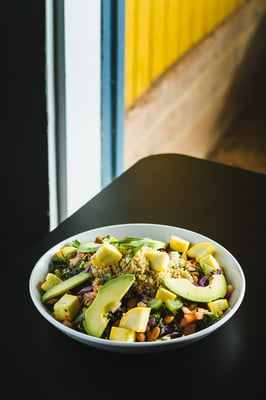curry: (82, 274, 136, 338), (40, 269, 93, 303)
sushi: (27, 220, 247, 357)
